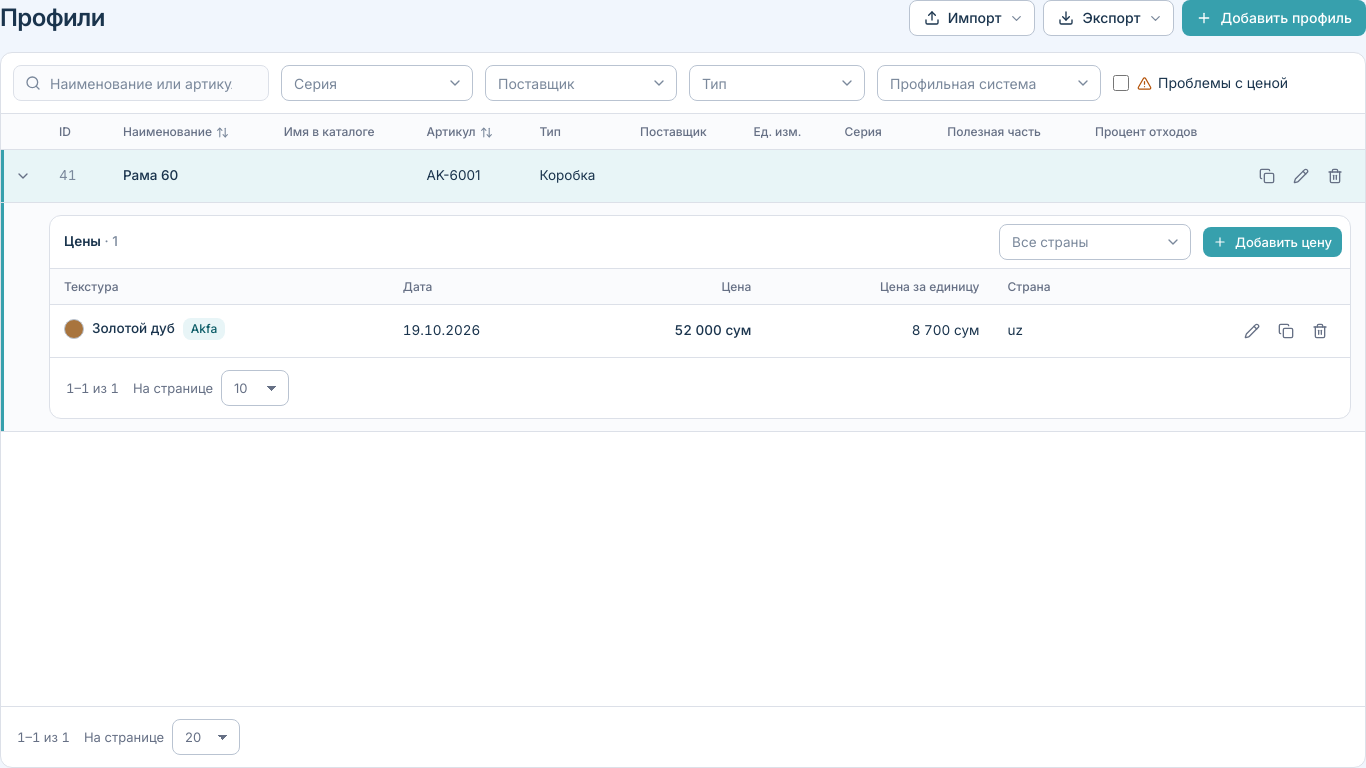
Test: Product prices › closes the prices of a deleted product
Expected: the element named "Цены: Рама 60" is shown, [49,215,1351,419]
Click the button named "Удалить" in the row of "41" at (1335, 176), box [1319,160,1351,192]
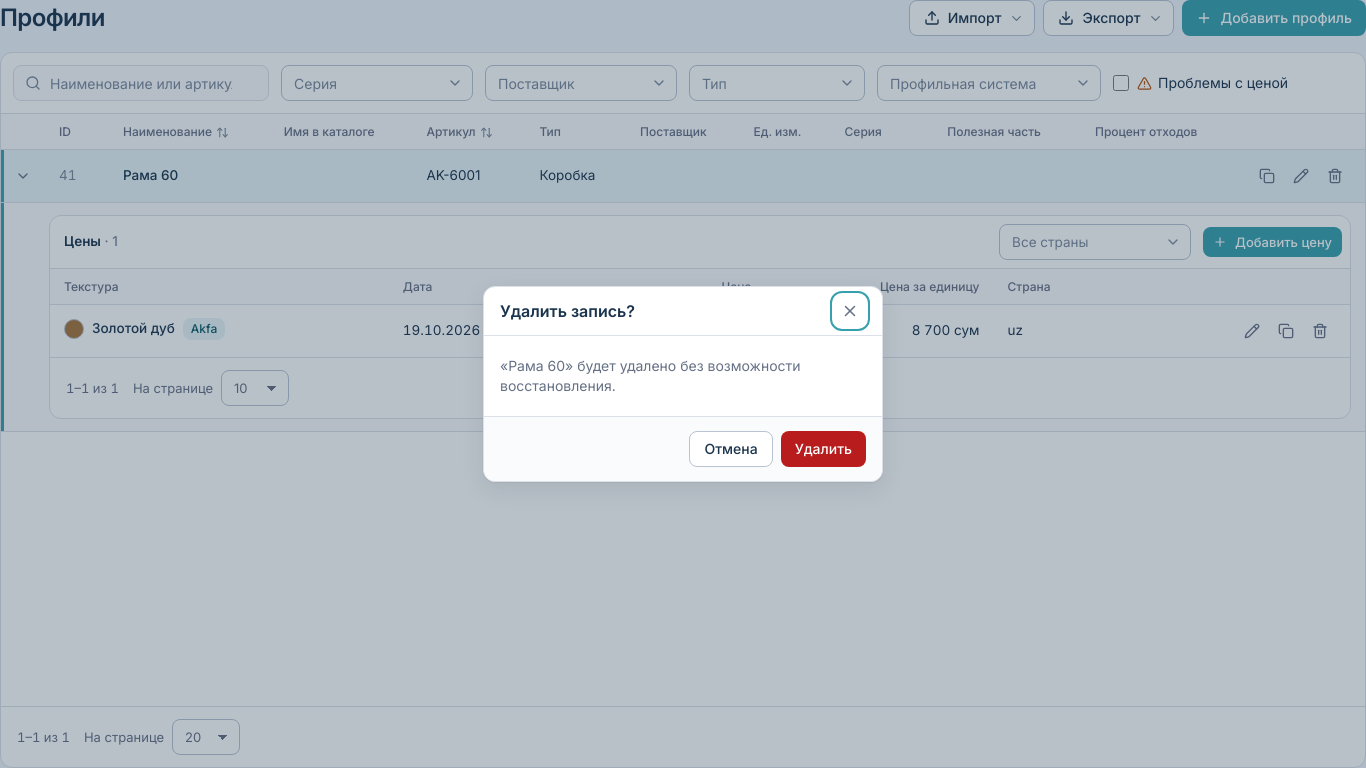
Click the button "Удалить" at (823, 449), box [781,431,866,467]
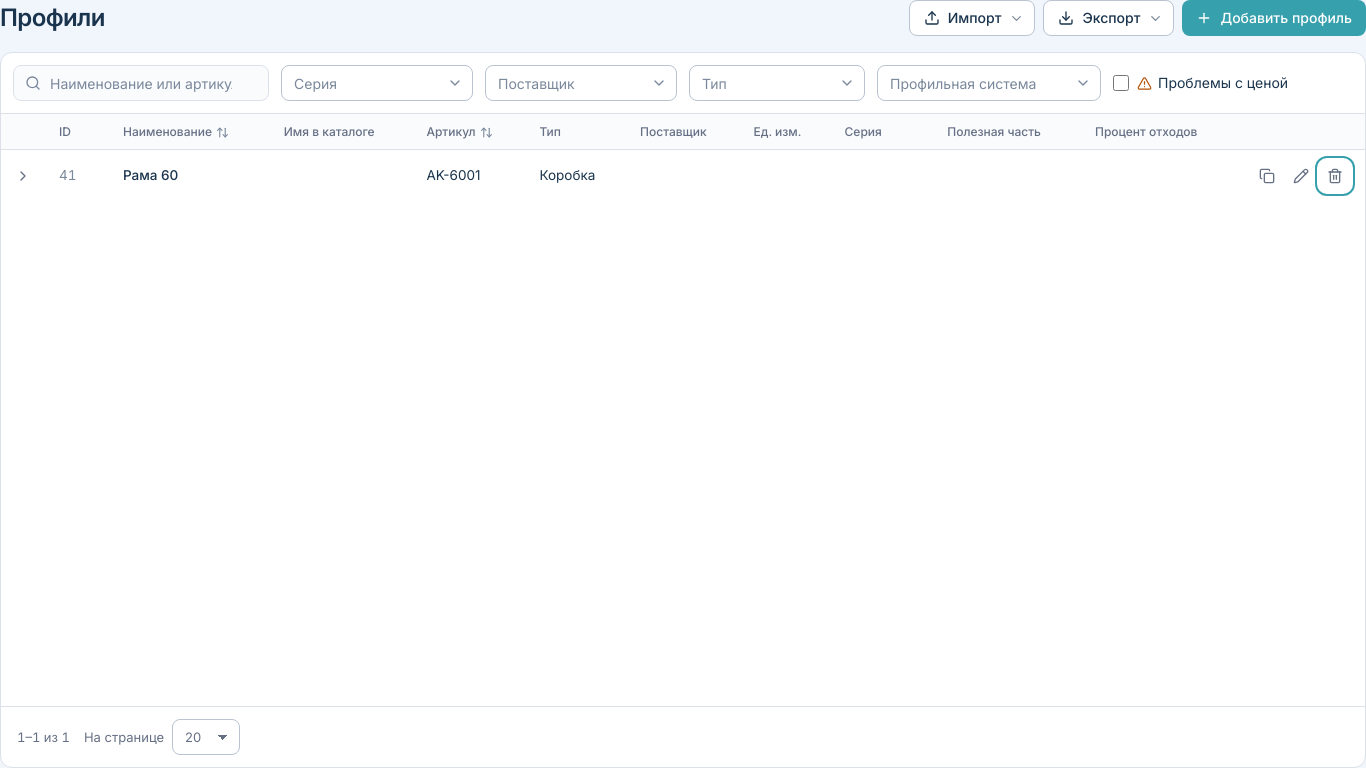
Expected: the element "Цены" is gone
